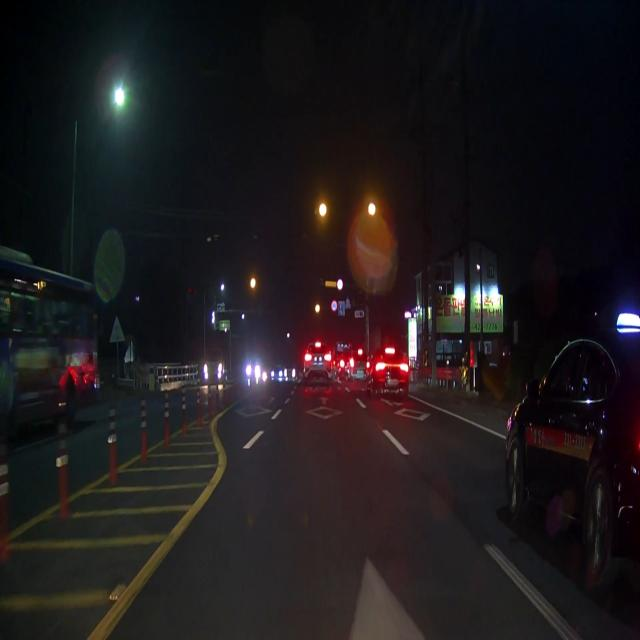Yellow Light: (367, 202, 377, 216), (319, 201, 327, 218)
